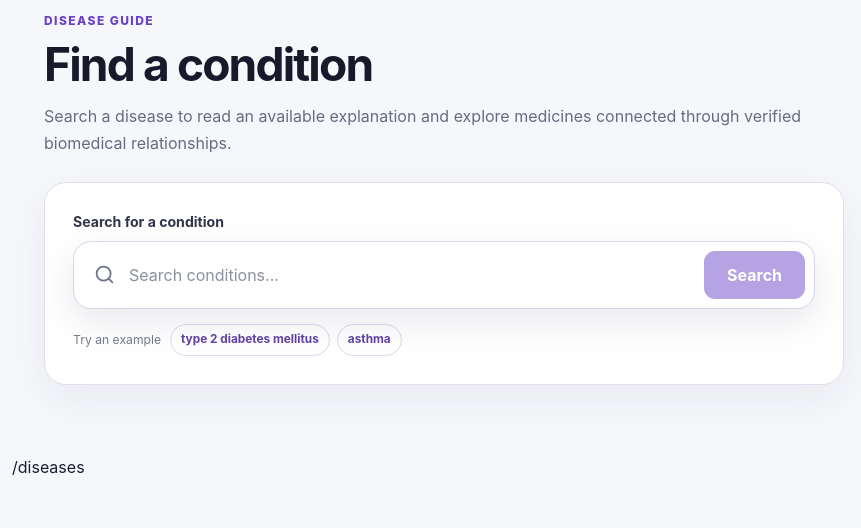
Test case: DiseaseGuide › loads bounded inventory on empty focus and restores browse mode after clearing
Step 1. Click the dropdown labelled "Search for a condition" → (410, 275), box [127, 262, 692, 288]
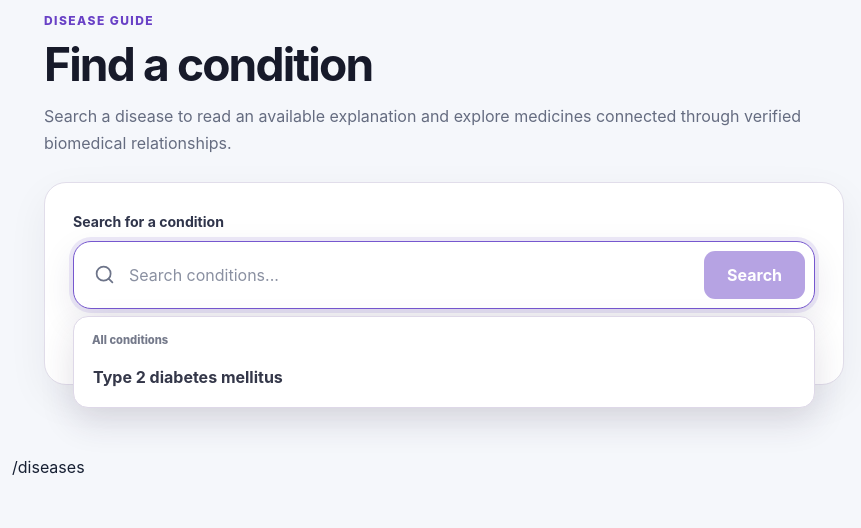
Expected: the list named "Condition suggestions" does not show "5148", [73, 316, 815, 408]
Now the text "All conditions" is shown, box [92, 333, 168, 347]
Now the option "Type 2 diabetes mellitus" is shown, box [81, 354, 807, 400]
Step 2. Type "diab" into the dropdown labelled "Search for a condition" → (410, 275), box [127, 262, 692, 288]
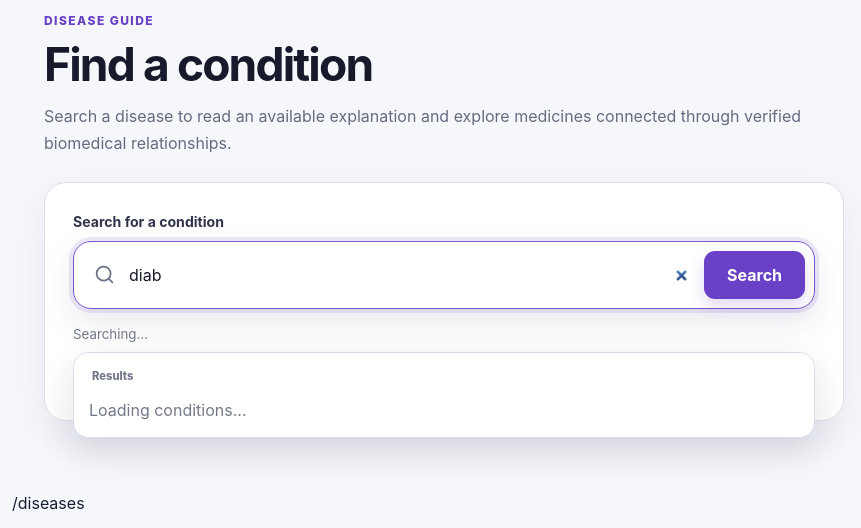
Now the text "Results" is shown, box [92, 369, 134, 383]
Step 3. Clear the dropdown labelled "Search for a condition" → (410, 275), box [127, 262, 692, 288]
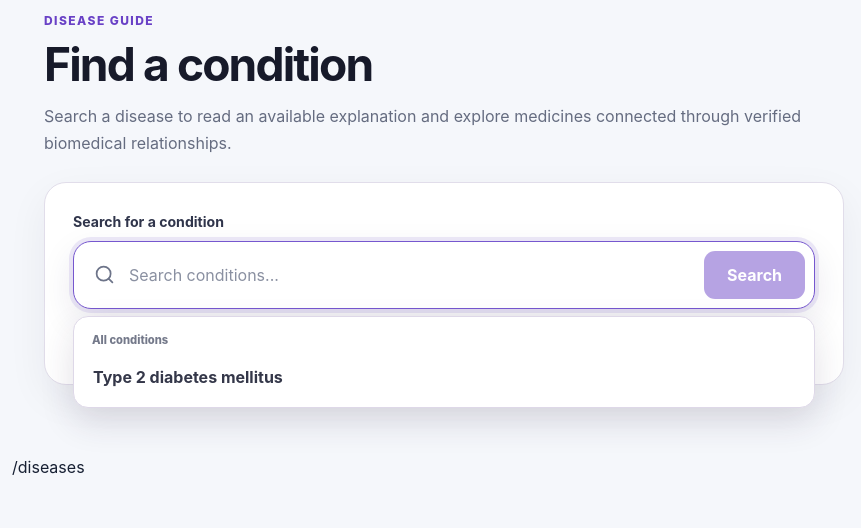
Now the text "All conditions" is shown, box [92, 333, 168, 347]
